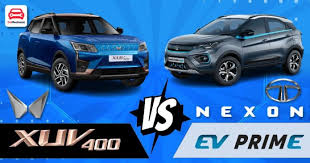XUV 400: (15, 12, 151, 94)
